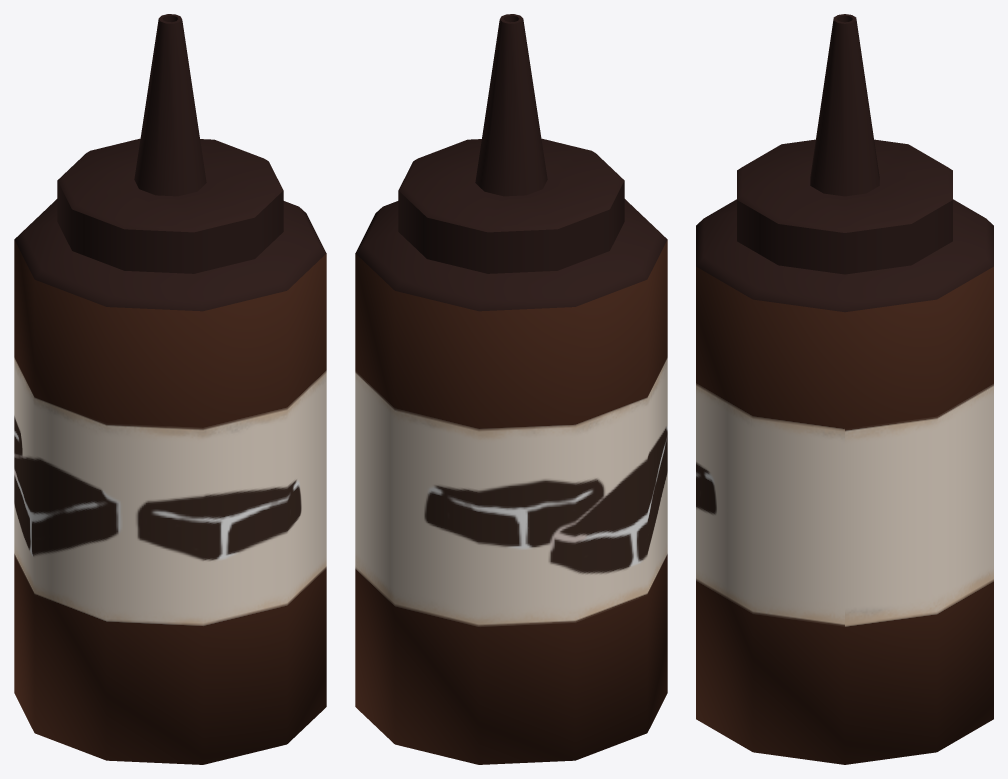
The model's file is chocolate.fbx.
3 views of the same model, side by side, from view 1: azimuth 30°, elevation 25°; view 2: azimuth 150°, elevation 25°; view 3: azimuth 270°, elevation 25° (orthographic).
Visible parts, largest first — view 1: chocolate; view 2: chocolate; view 3: chocolate.
Part boxes in pixels (x1,y1,x2,y2): chocolate: (14,14,326,764); chocolate: (355,14,667,764); chocolate: (696,14,993,764).
Bounding box in the file's own units: 68 × 166 × 64.67.
2 materials, 1 textured.
